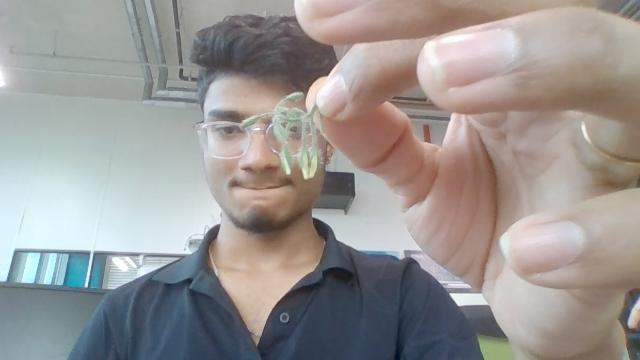Flower Bud: (241, 94, 306, 132), (300, 143, 319, 181), (279, 108, 308, 125), (273, 117, 290, 145), (239, 114, 269, 129), (281, 141, 292, 176), (280, 91, 306, 105)
